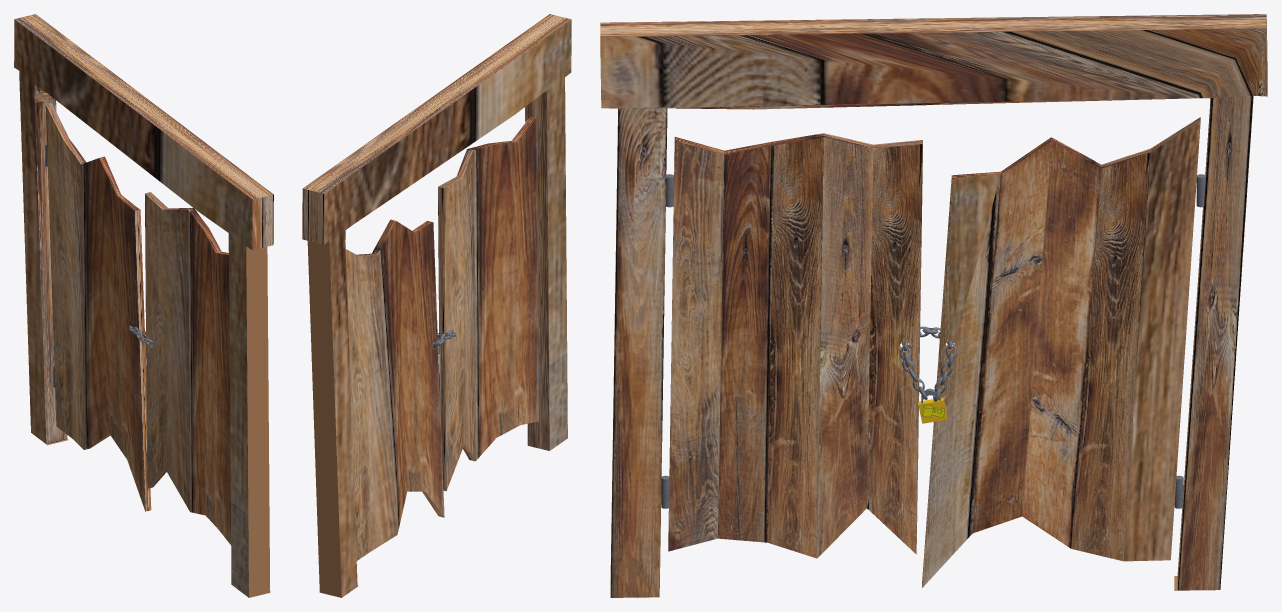
Rendered from entrata miniera.fbx.
The picture shows the model from 3 angles, left to right: view 1: azimuth 30°, elevation 25°; view 2: azimuth 150°, elevation 25°; view 3: azimuth 270°, elevation 25°; orthographic projection. The views are drawn at different scales.
Parts seen in each view (by area): view 1: Cube, Cube.003, Cube.002; view 2: Cube, Cube.002, Cube.003; view 3: Cube, Cube.002, Cube.003, Sphere.013.
Boxes of the visible parts, left/top/right/bottom form: Cube: left=14, top=14, right=273, bottom=597; Cube.003: left=45, top=103, right=151, bottom=511; Cube.002: left=145, top=192, right=230, bottom=544; Cube: left=302, top=14, right=571, bottom=597; Cube.002: left=438, top=117, right=538, bottom=491; Cube.003: left=345, top=219, right=444, bottom=560; Cube: left=600, top=14, right=1267, bottom=597; Cube.002: left=668, top=133, right=922, bottom=558; Cube.003: left=922, top=117, right=1200, bottom=587; Sphere.013: left=900, top=326, right=956, bottom=401.
Bounding box in the file's own units: 26.16 × 428 × 455.
Materials: 5 (5 with a texture image).
